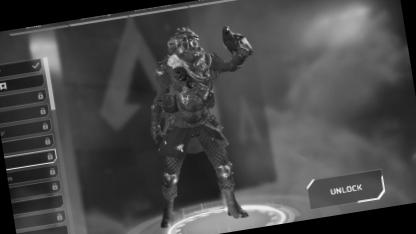Target: (146, 23, 234, 210)
